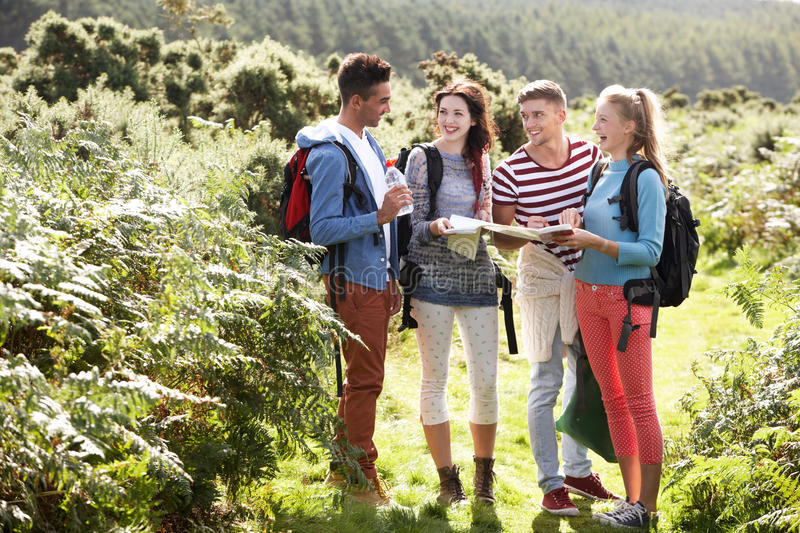Person: (548, 81, 709, 527), (271, 41, 419, 521), (493, 72, 627, 528), (392, 79, 521, 516)
